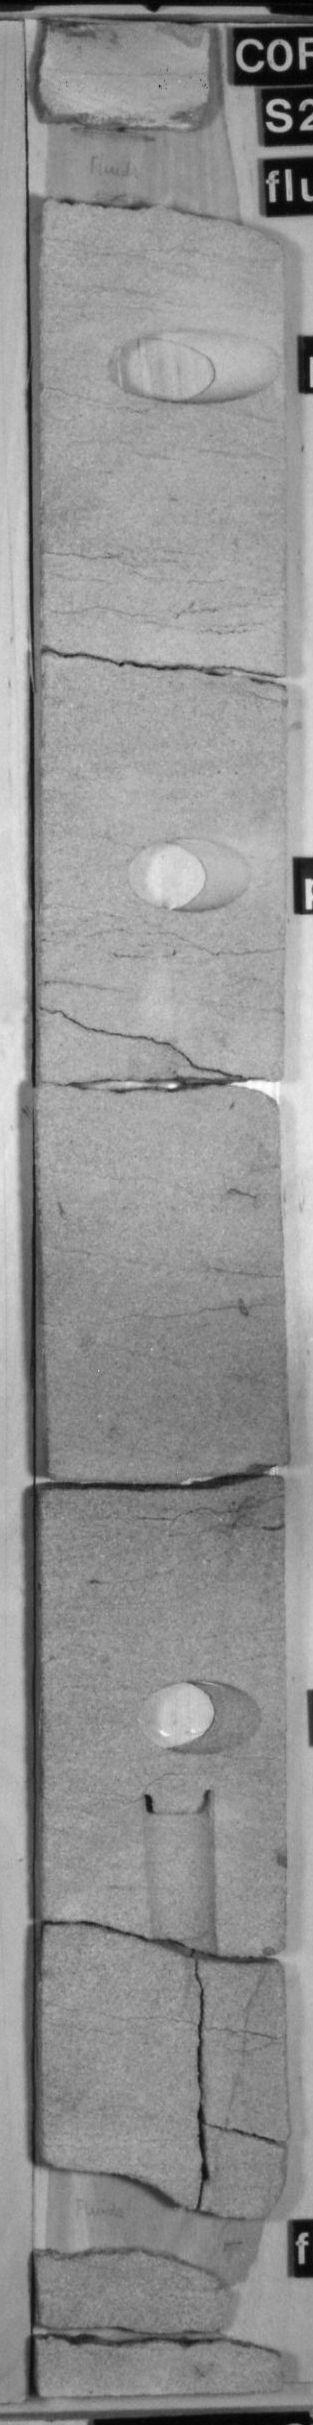hplug: (33, 2161, 262, 2270), (87, 312, 287, 414), (116, 824, 260, 926), (124, 1675, 280, 1762)
scal: (36, 90, 274, 243)
vplug: (124, 1779, 236, 1966)
